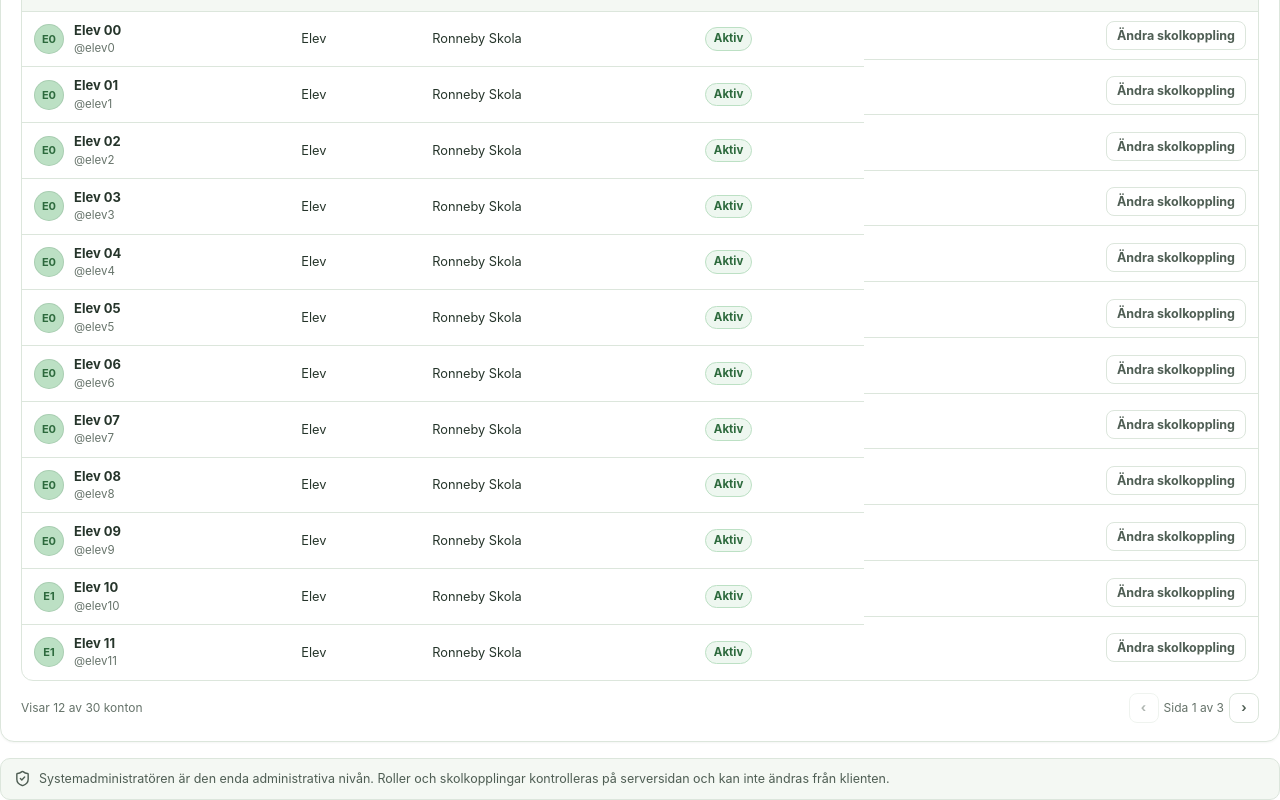
Test: AdminOrganisations › sidnumrerar en lång kontolista
(page scrolled)
Check: the text "Elev 00" is shown, box left=74, top=21, right=121, bottom=40
Check: the text "Elev 12" is not shown
Click the button named "Nästa sida": (1244, 708) left=1229, top=693, right=1259, bottom=723
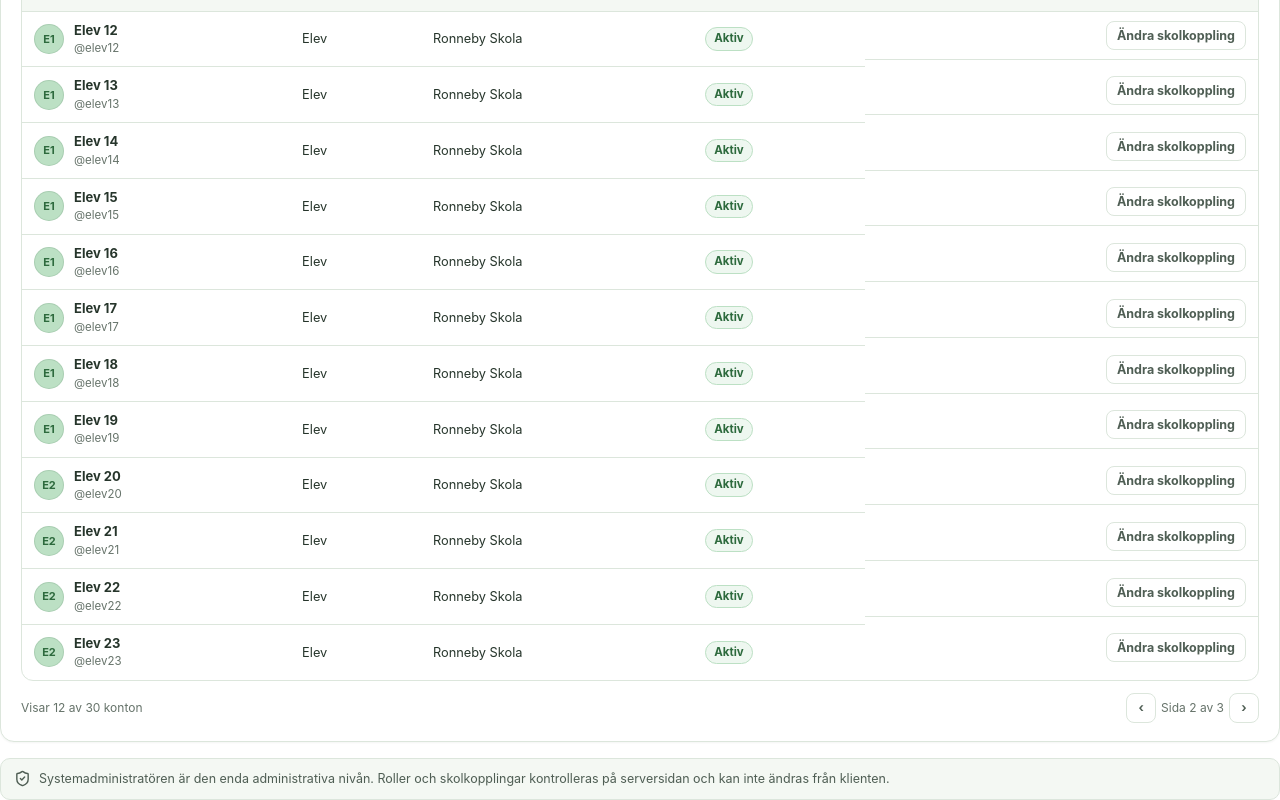
Check: the text "Elev 12" is shown, box left=74, top=21, right=119, bottom=40
Check: the text "Sida 2 av 3" is shown, box left=1161, top=699, right=1224, bottom=717
